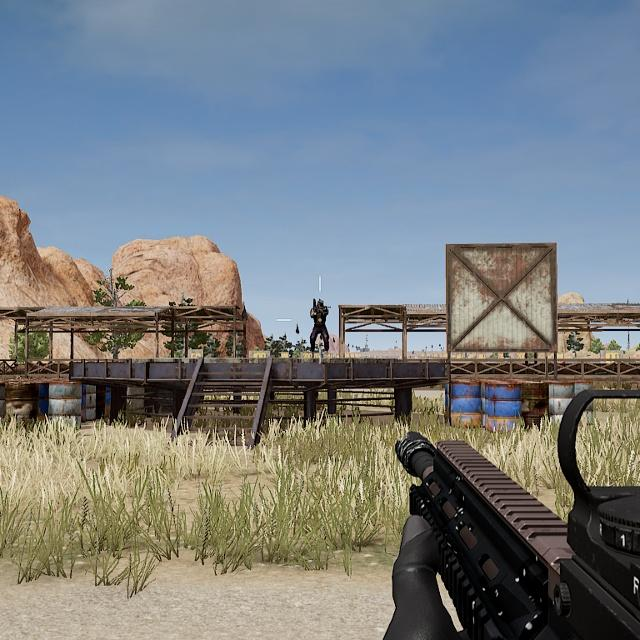head: (315, 297, 326, 310)
people: (305, 296, 334, 357)
